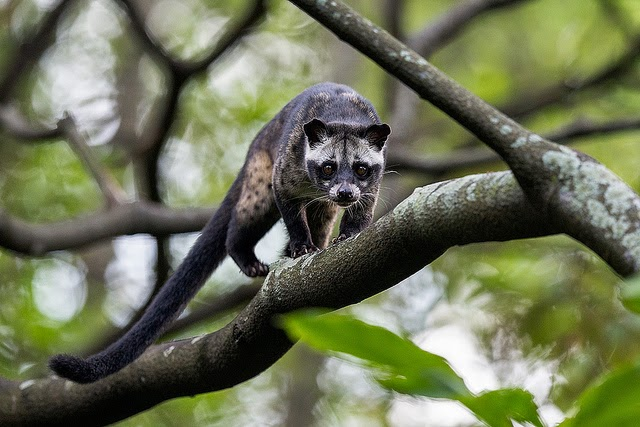Civet: (38, 76, 402, 386)
